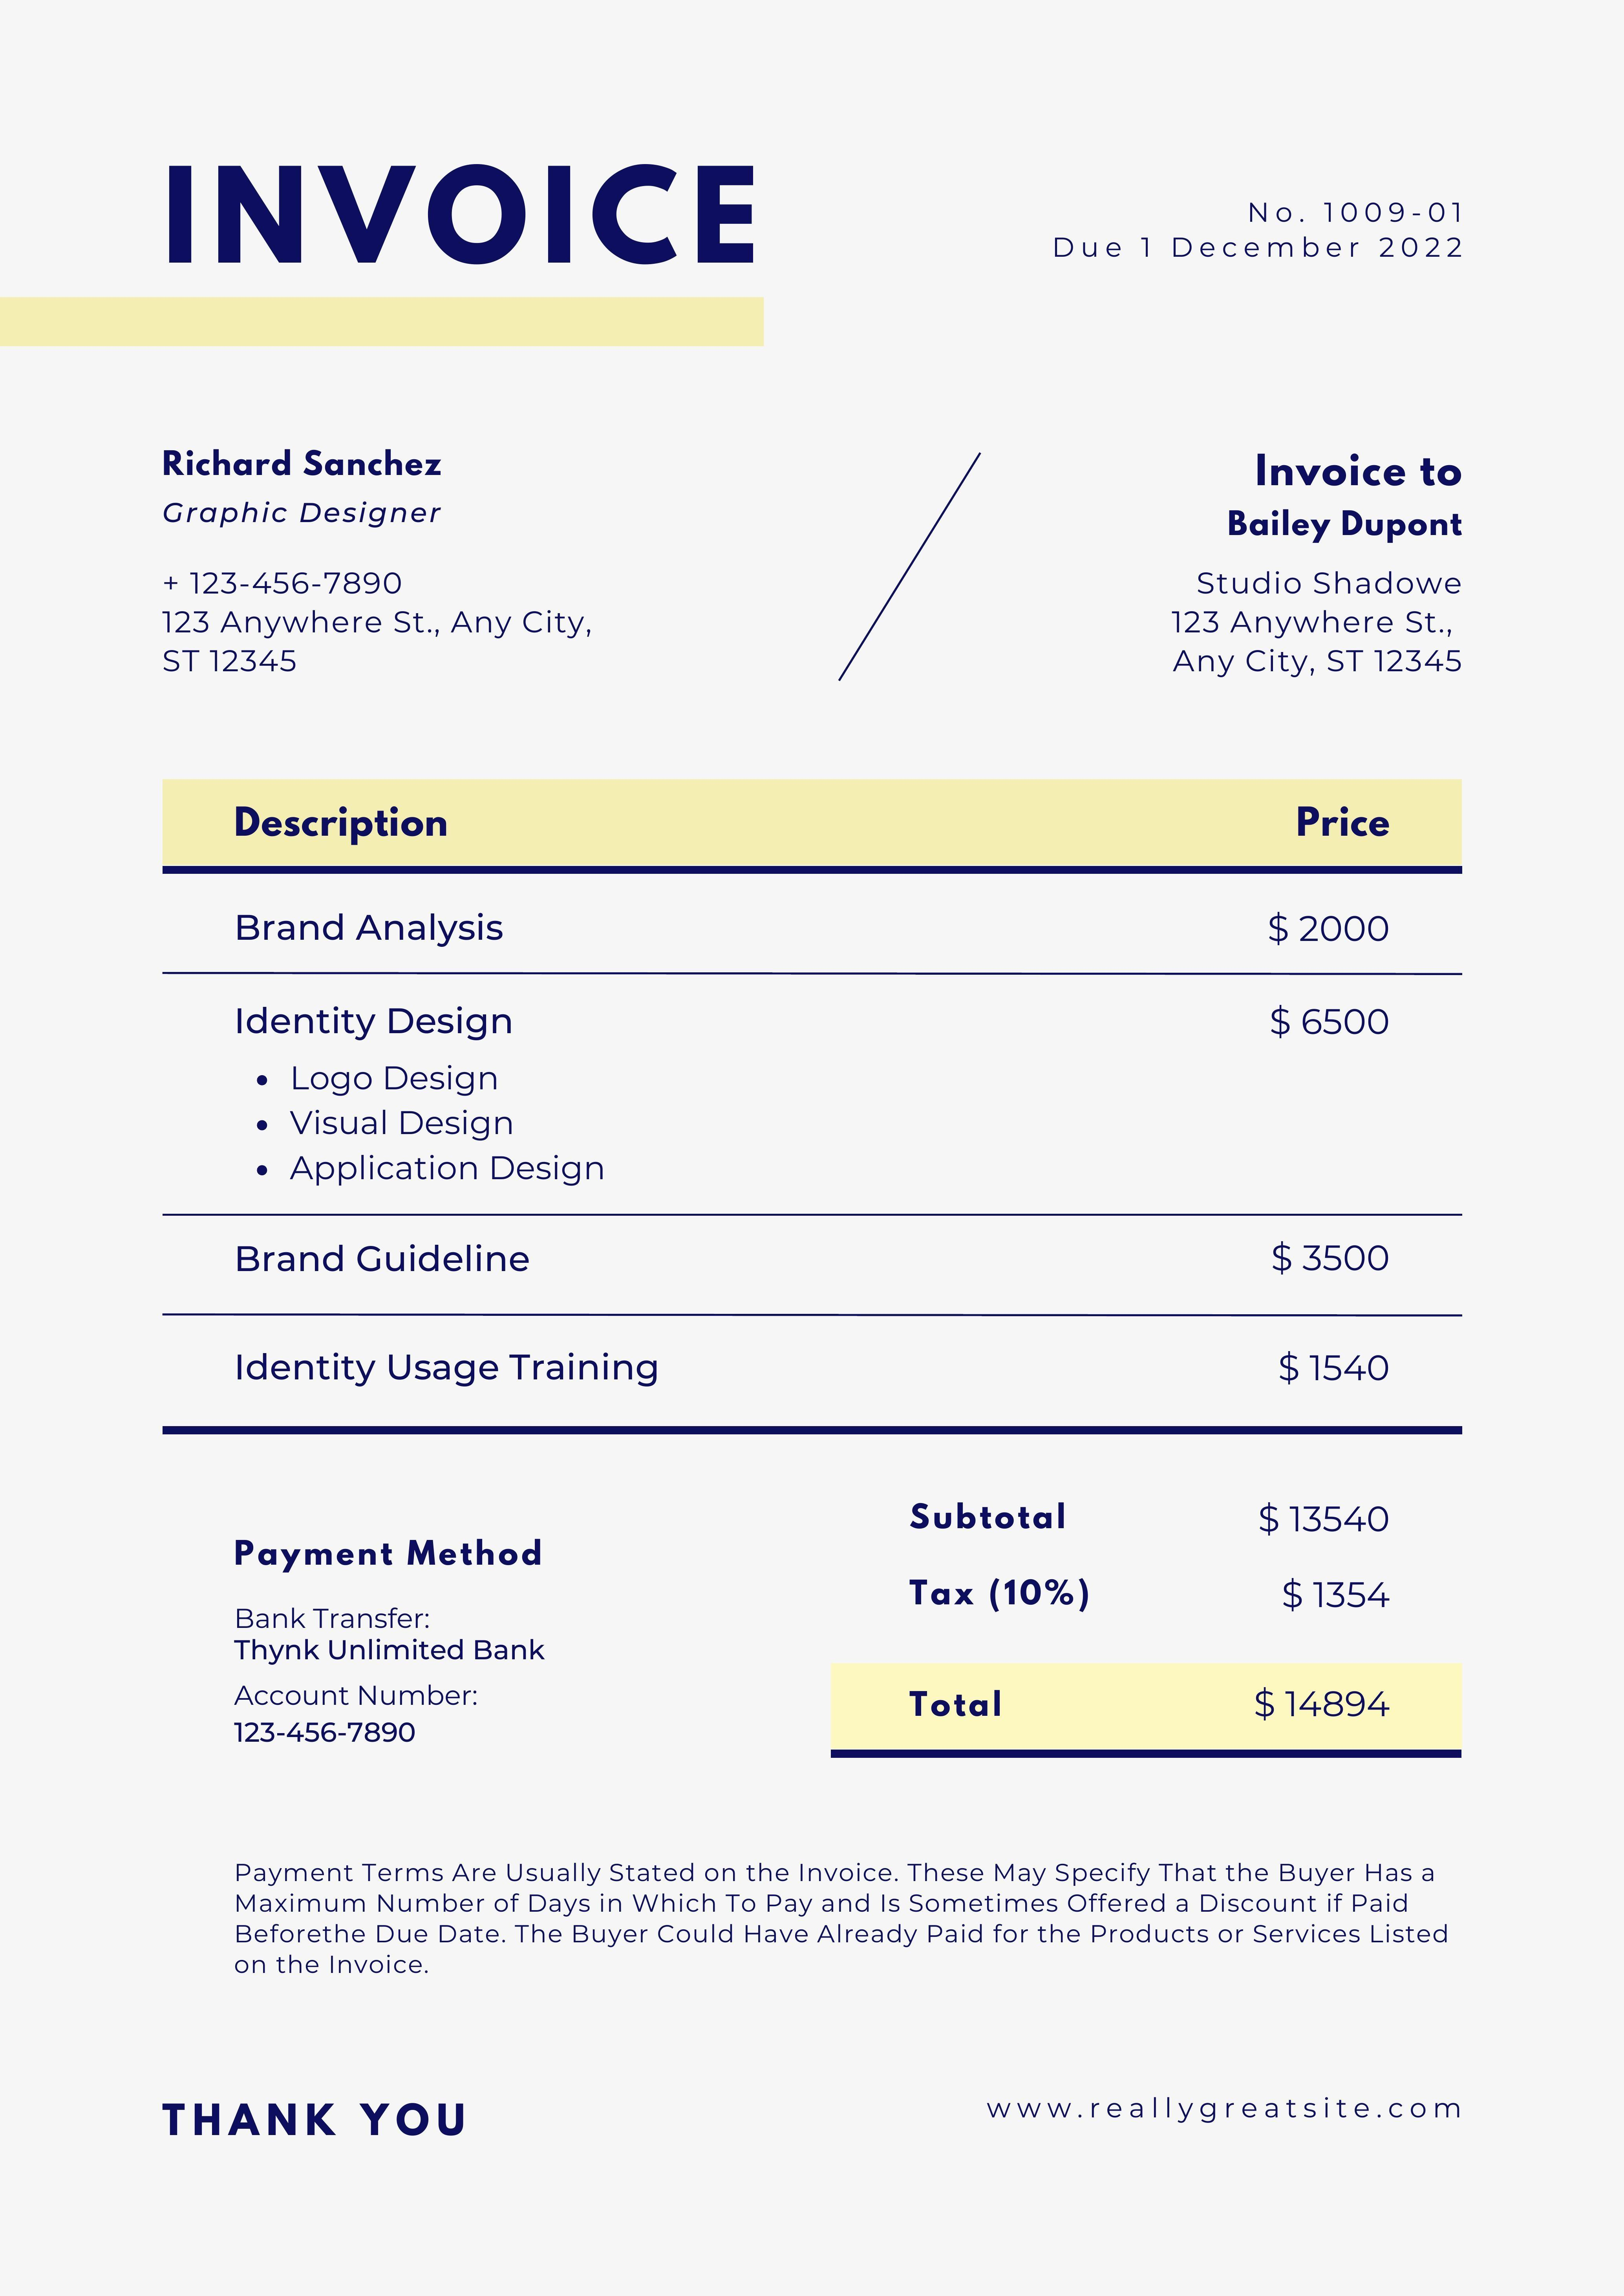ROI: (160, 776, 1459, 1439), (831, 1477, 1462, 1746), (146, 441, 622, 683), (223, 1509, 564, 1758), (1174, 444, 1473, 682), (1025, 190, 1541, 274)
